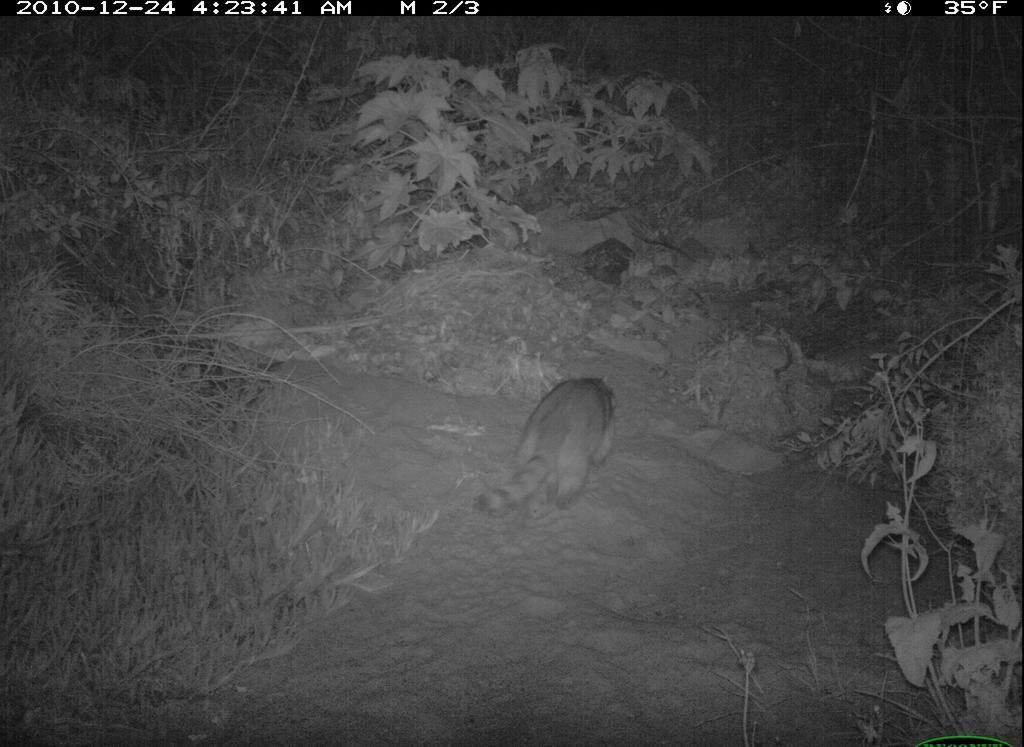raccoon: (468, 361, 623, 533)
